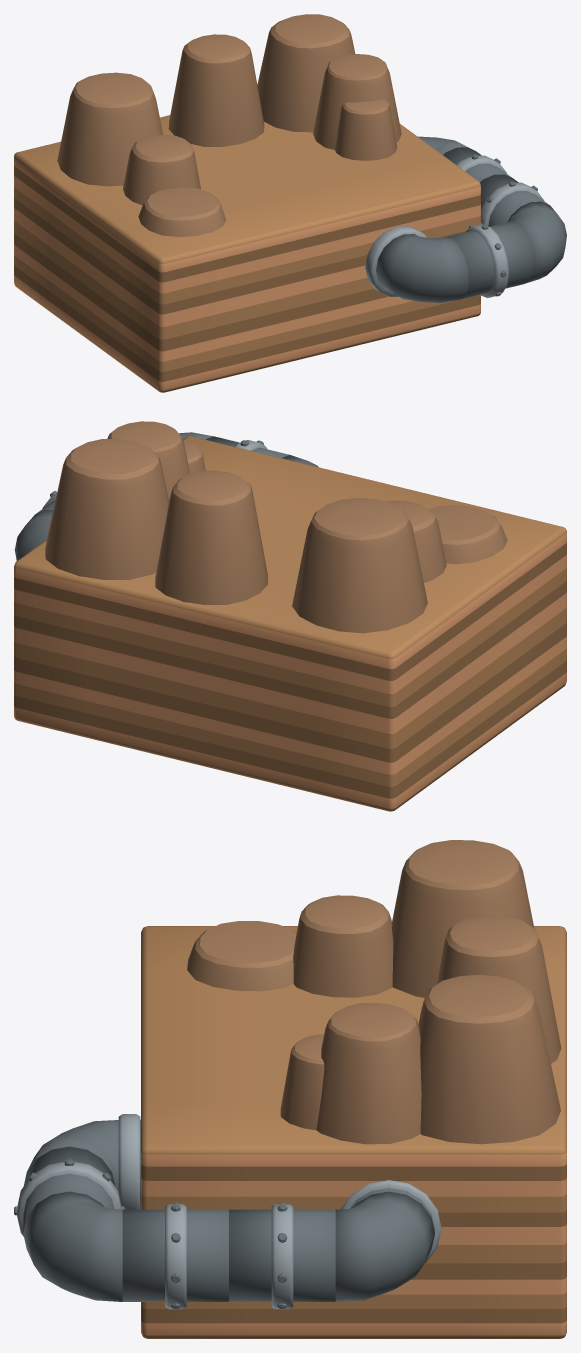
The model's file is Cube_Grass_CornerBottom_Tall2.gltf.
The picture shows the model from 3 angles, top to bottom: view 1: azimuth 30°, elevation 25°; view 2: azimuth 150°, elevation 25°; view 3: azimuth 270°, elevation 25°; orthographic projection. The views are drawn at different scales.
Visible parts, largest first — view 1: Cube_Grass_CornerBottom_Tall2; view 2: Cube_Grass_CornerBottom_Tall2; view 3: Cube_Grass_CornerBottom_Tall2.
Boxes of the visible parts, left/top/right/bottom form: Cube_Grass_CornerBottom_Tall2: left=14, top=14, right=566, bottom=392; Cube_Grass_CornerBottom_Tall2: left=14, top=421, right=566, bottom=811; Cube_Grass_CornerBottom_Tall2: left=14, top=840, right=566, bottom=1338.
Size of the model in its own units: 12.33 by 6.45 by 10.38.
